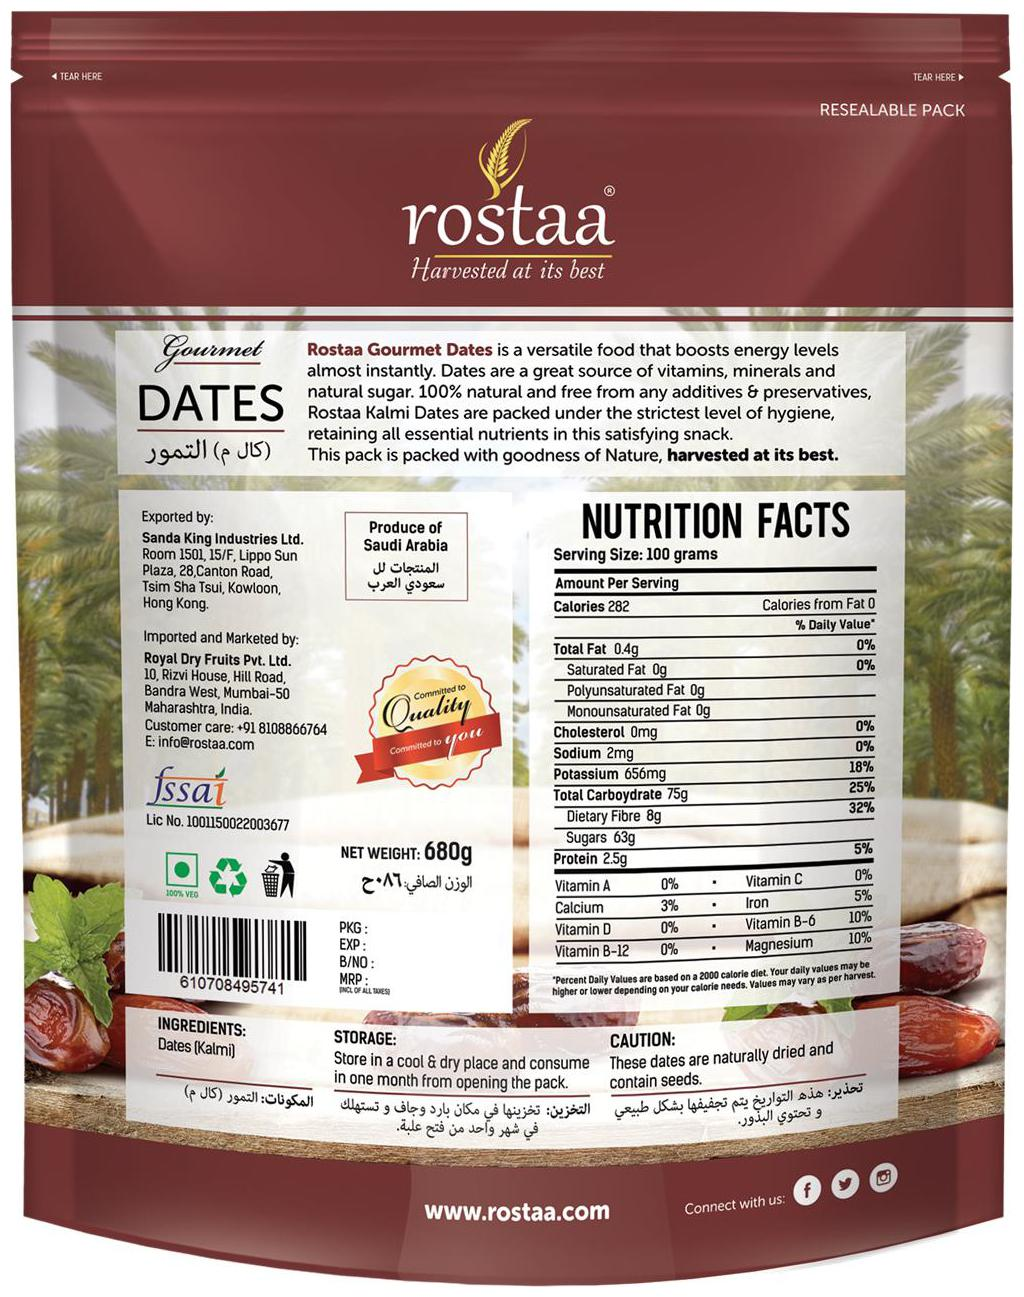fssai: (143, 760, 236, 812)
